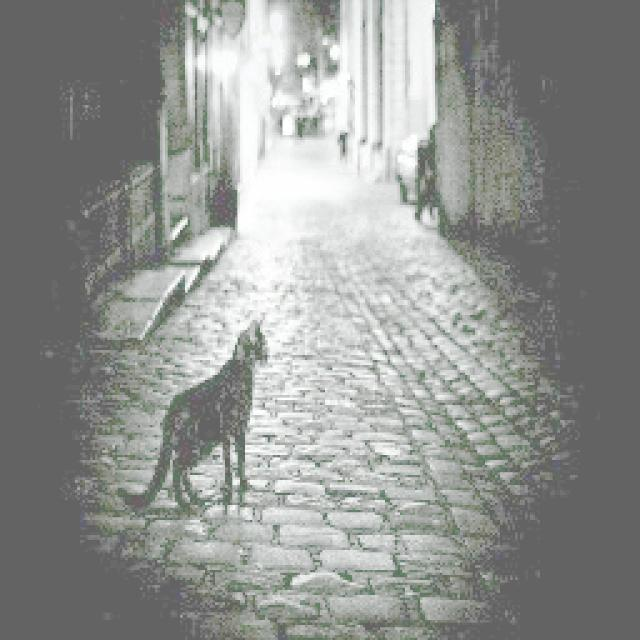cat: (136, 317, 272, 502)
